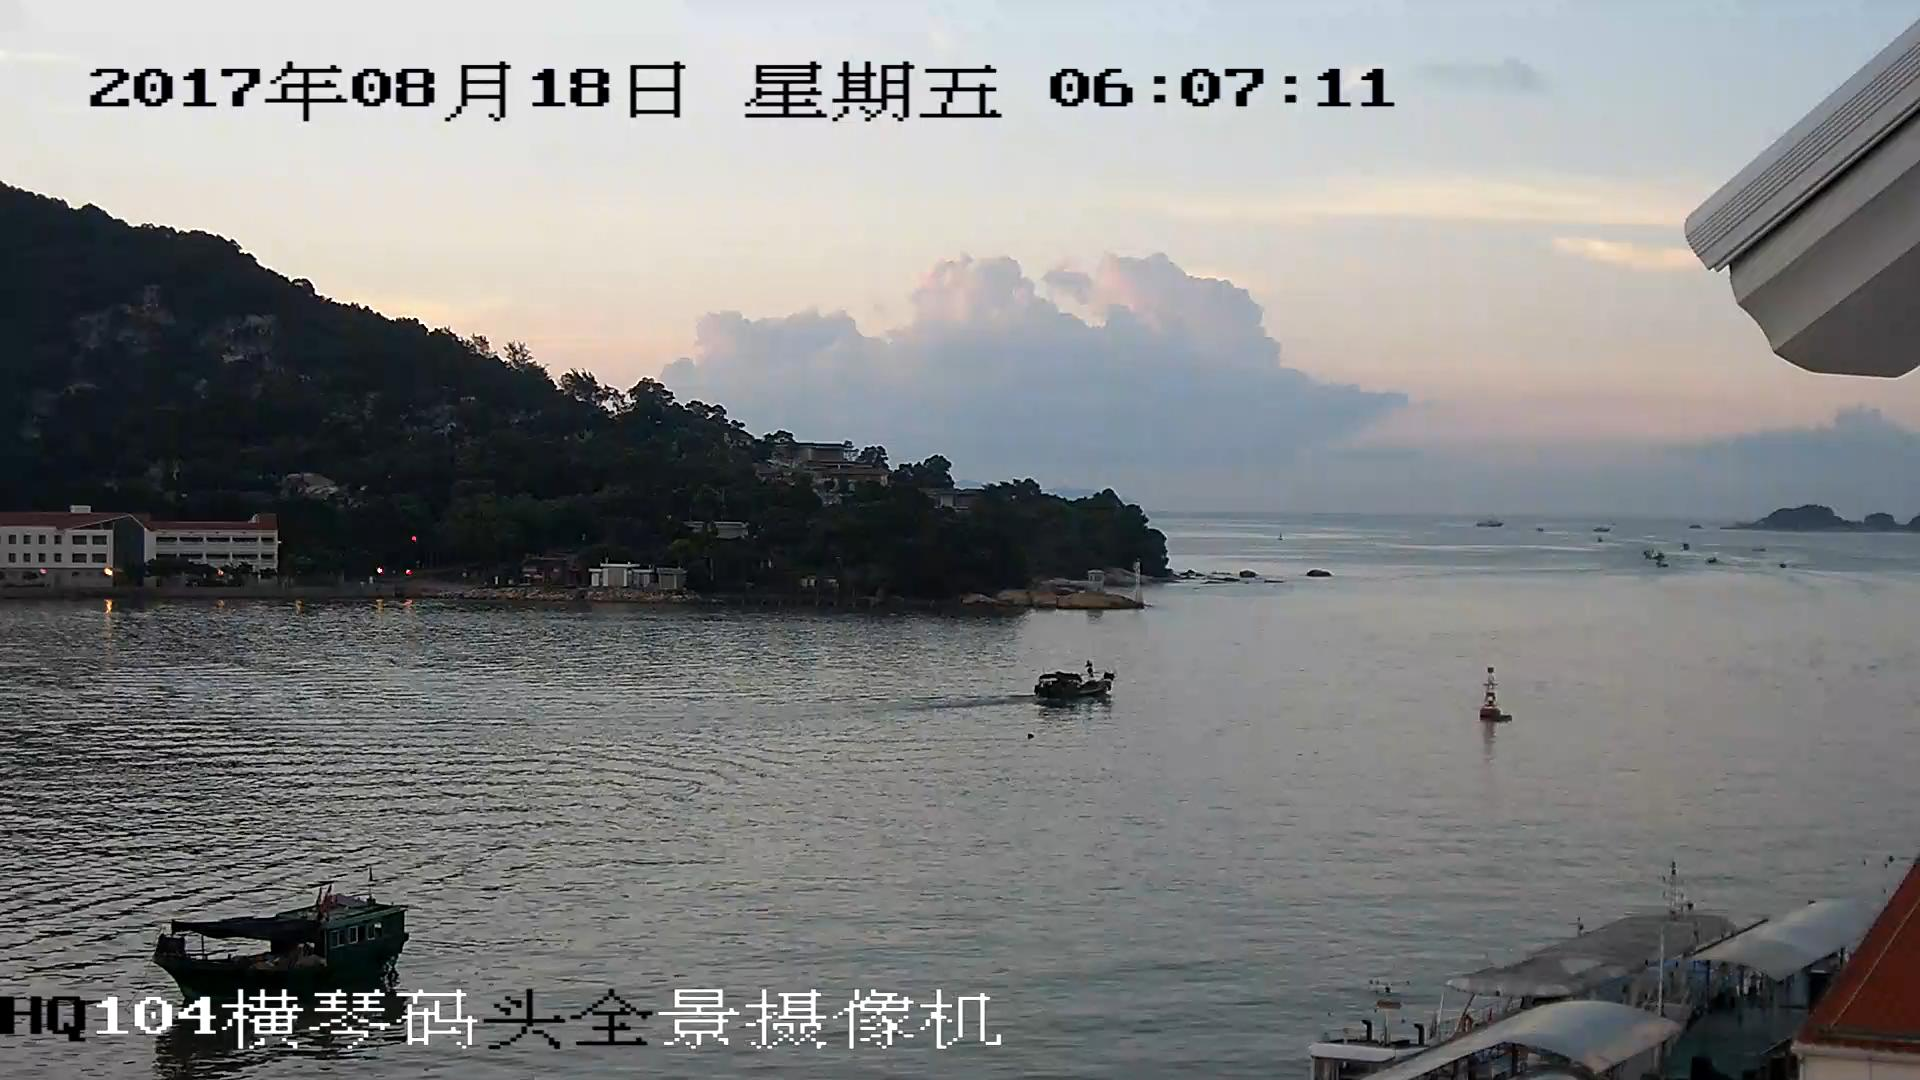fishing boat: (150, 899, 416, 990), (1032, 658, 1116, 702)
